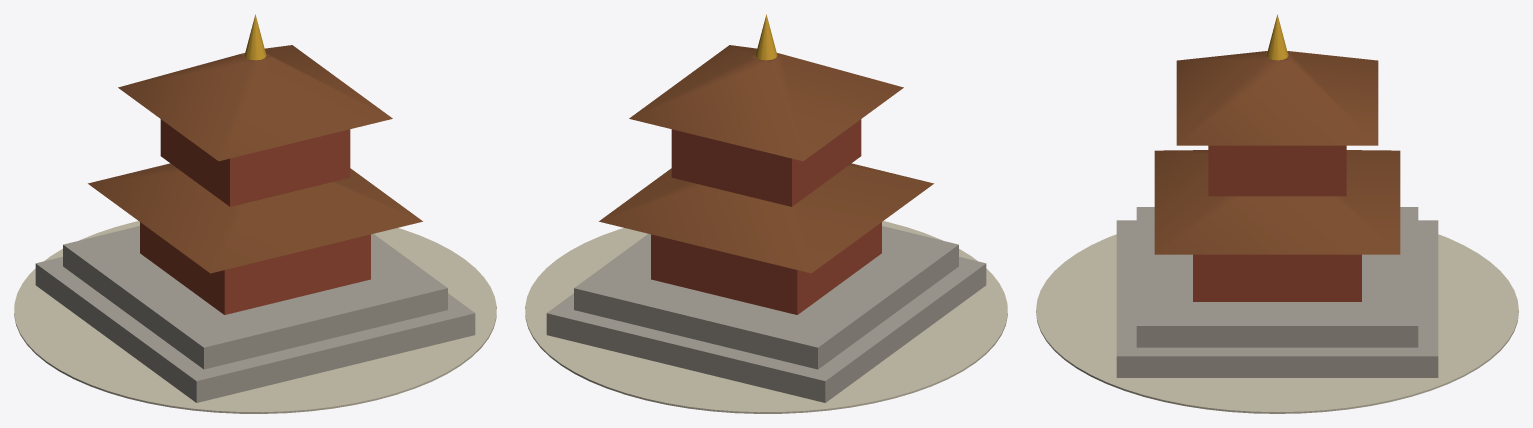
The model's file is changu-narayan.gltf.
3 renders of one model, left to right at view 1: azimuth 30°, elevation 25°; view 2: azimuth 150°, elevation 25°; view 3: azimuth 270°, elevation 25°, orthographic.
Parts seen in each view (by area): view 1: ground, object 2, object 4, object 6, object 1, object 3, object 5, object 7; view 2: ground, object 2, object 4, object 6, object 1, object 3, object 5, object 7; view 3: ground, object 2, object 4, object 6, object 1, object 3, object 5, object 7.
Boxes of the visible parts, x1=… form: ground: x1=14, y1=221, x2=496, y2=413; object 2: x1=63, y1=226, x2=447, y2=369; object 4: x1=88, y1=163, x2=422, y2=273; object 6: x1=118, y1=45, x2=392, y2=161; object 1: x1=35, y1=256, x2=475, y2=402; object 3: x1=140, y1=222, x2=370, y2=314; object 5: x1=160, y1=119, x2=350, y2=206; object 7: x1=244, y1=14, x2=266, y2=60; ground: x1=525, y1=221, x2=1007, y2=413; object 2: x1=574, y1=226, x2=958, y2=369; object 4: x1=599, y1=163, x2=933, y2=273; object 6: x1=629, y1=45, x2=903, y2=161; object 1: x1=546, y1=256, x2=986, y2=402; object 3: x1=651, y1=222, x2=881, y2=314; object 5: x1=671, y1=119, x2=861, y2=206; object 7: x1=755, y1=14, x2=777, y2=60; ground: x1=1036, y1=234, x2=1518, y2=413; object 2: x1=1136, y1=207, x2=1418, y2=347; object 4: x1=1154, y1=150, x2=1400, y2=254; object 6: x1=1176, y1=51, x2=1378, y2=145; object 1: x1=1116, y1=220, x2=1438, y2=377; object 3: x1=1193, y1=254, x2=1361, y2=301; object 5: x1=1208, y1=145, x2=1346, y2=196; object 7: x1=1266, y1=14, x2=1288, y2=60.
Bounding box in the file's own units: 24 × 16.34 × 24.
